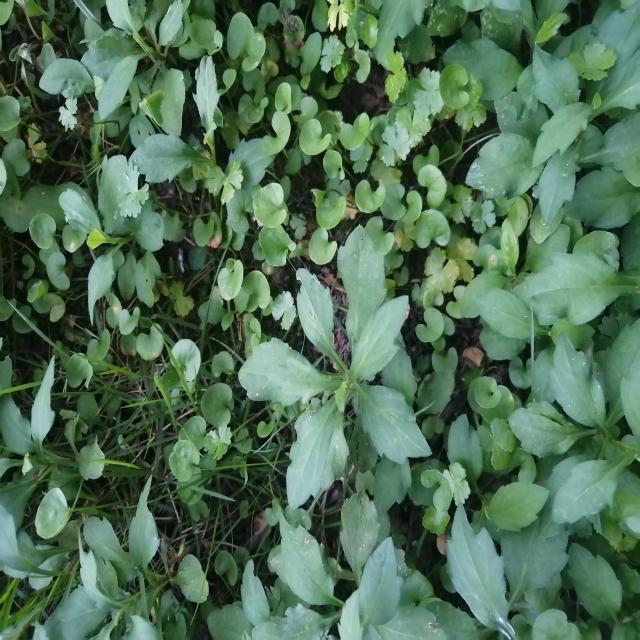Indian aster: (255, 241, 431, 498)
